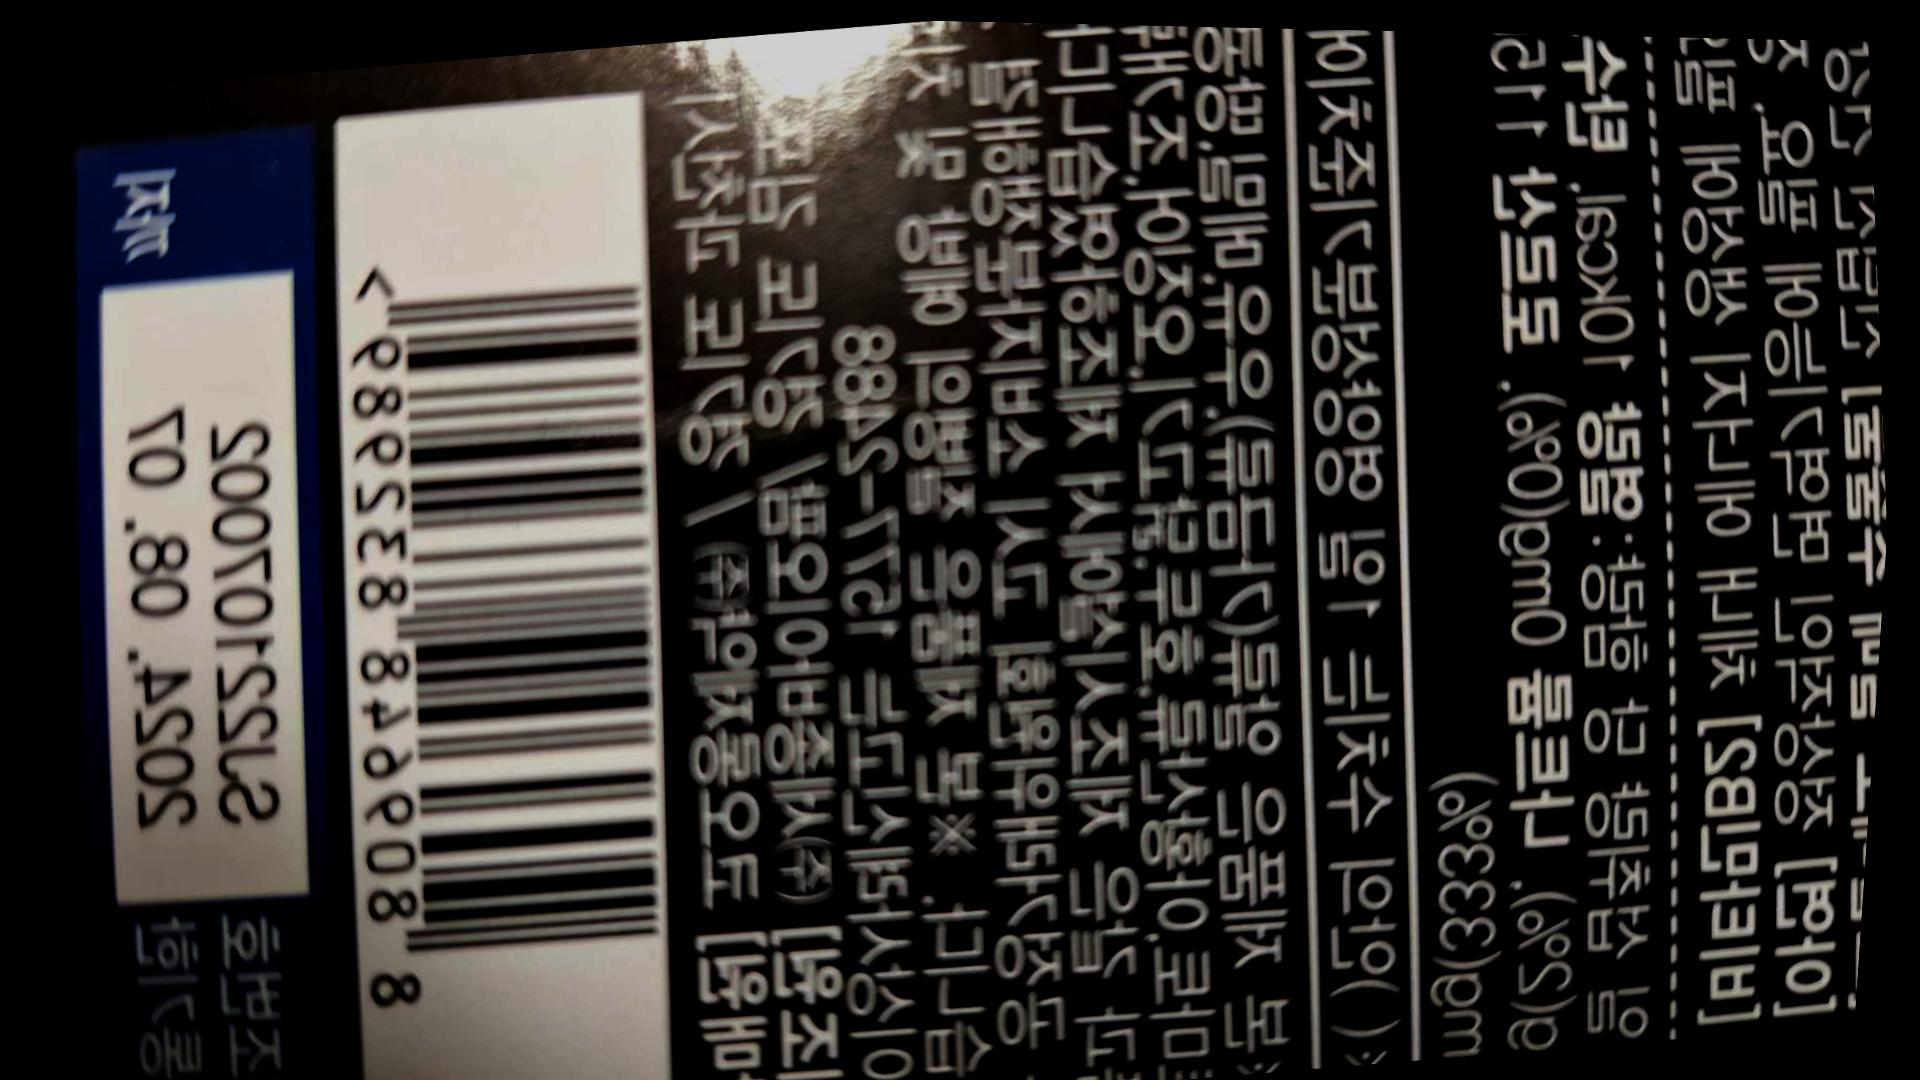chicken-6500-2024-8-27: (278, 208, 744, 1068)
